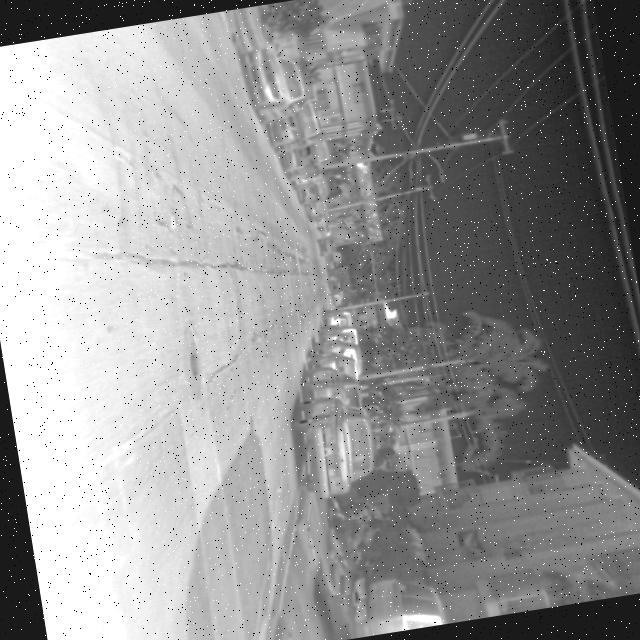Vehicle: (286, 388, 384, 502), (318, 564, 449, 640), (240, 40, 312, 126)
